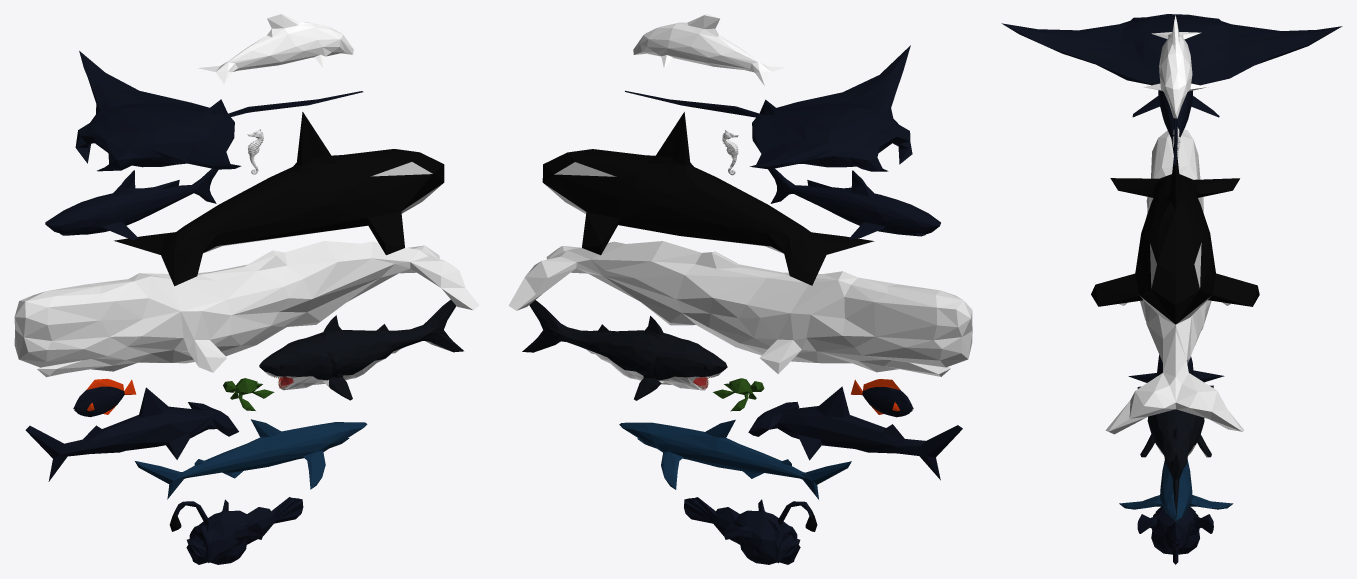
The model's file is Sea Creatures.FBX.
3 renders of one model, left to right at view 1: azimuth 30°, elevation 25°; view 2: azimuth 150°, elevation 25°; view 3: azimuth 270°, elevation 25°, orthographic. The views are drawn at different scales.
Visible parts, largest first — view 1: Whale, Killer whale, Ramp Fish, Body, Hammerhead Shark, Shark2, Shatk1, Anglerfish, Dolphin, Dori, Squirty; view 2: Whale, Killer whale, Ramp Fish, Body, Hammerhead Shark, Shark2, Shatk1, Anglerfish, Dolphin, Dori, Squirty; view 3: Killer whale, Ramp Fish, Whale, Body, Dolphin, Anglerfish, Shark2, Shatk1, Hammerhead Shark.
Boxes of the visible parts, left/top/right/bottom form: Whale: left=14, top=241, right=479, bottom=377; Killer whale: left=114, top=112, right=444, bottom=286; Ramp Fish: left=75, top=51, right=363, bottom=171; Body: left=259, top=299, right=463, bottom=400; Hammerhead Shark: left=25, top=387, right=238, bottom=481; Shark2: left=135, top=419, right=367, bottom=499; Shatk1: left=45, top=168, right=218, bottom=240; Anglerfish: left=169, top=497, right=303, bottom=564; Dolphin: left=198, top=14, right=353, bottom=84; Dori: left=73, top=378, right=136, bottom=417; Squirty: left=223, top=378, right=274, bottom=410; Whale: left=508, top=241, right=972, bottom=376; Killer whale: left=542, top=112, right=874, bottom=285; Ramp Fish: left=625, top=45, right=912, bottom=171; Body: left=522, top=300, right=727, bottom=400; Hammerhead Shark: left=748, top=386, right=962, bottom=480; Shark2: left=619, top=419, right=851, bottom=499; Shatk1: left=768, top=168, right=940, bottom=239; Anglerfish: left=684, top=497, right=817, bottom=564; Dolphin: left=633, top=14, right=785, bottom=85; Dori: left=850, top=379, right=913, bottom=417; Squirty: left=713, top=378, right=764, bottom=411; Killer whale: left=1091, top=154, right=1259, bottom=324; Ramp Fish: left=1001, top=14, right=1342, bottom=165; Whale: left=1105, top=129, right=1243, bottom=434; Body: left=1140, top=409, right=1211, bottom=516; Dolphin: left=1143, top=15, right=1207, bottom=118; Anglerfish: left=1137, top=506, right=1213, bottom=564; Shark2: left=1119, top=459, right=1233, bottom=521; Shatk1: left=1132, top=90, right=1219, bottom=154; Hammerhead Shark: left=1128, top=355, right=1224, bottom=388.
Size of the model in its own units: 716 by 811 by 447.
